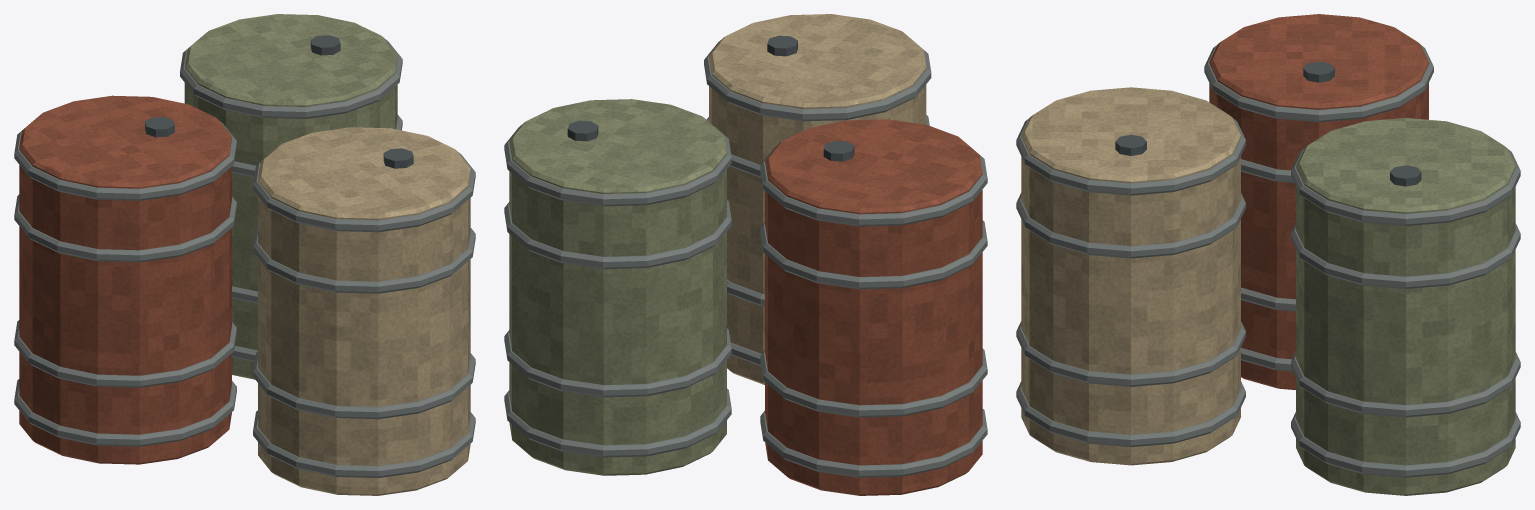
The picture shows the model from 3 angles, left to right: view 1: azimuth 30°, elevation 25°; view 2: azimuth 150°, elevation 25°; view 3: azimuth 270°, elevation 25°; orthographic projection. The views are drawn at different scales.
Parts seen in each view (by area): view 1: ST2-P01_Mesh; view 2: ST2-P01_Mesh; view 3: ST2-P01_Mesh.
Boxes of the visible parts, x1,y1,x2,y2 form: ST2-P01_Mesh: (14,14,475,495); ST2-P01_Mesh: (504,14,987,495); ST2-P01_Mesh: (1016,14,1520,495).
Bounding box in the file's own units: 1.64 × 1.13 × 1.74.
5 materials, 3 textured.
